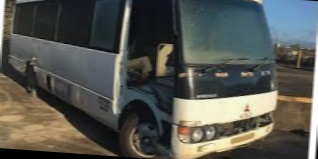bus: (2, 0, 285, 159)
